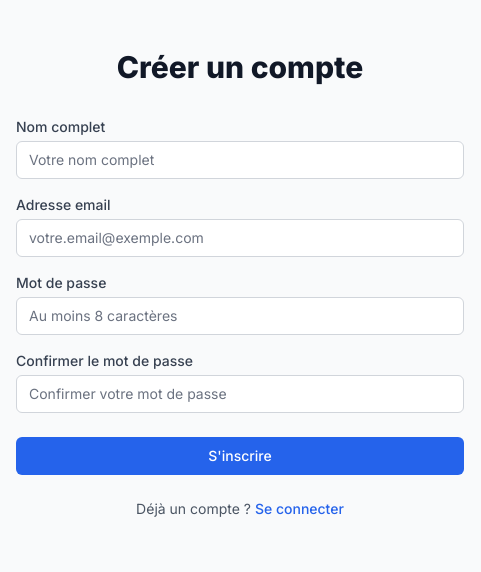
Test: FormulaireInscription › Soumission du formulaire et requêtes réseau › affiche une erreur générique en cas d'échec sans message
Type "Jean Dupont" into the field labelled "Nom complet".
click(240, 160); type("Jean Dupont")  # box [16,141,464,179]
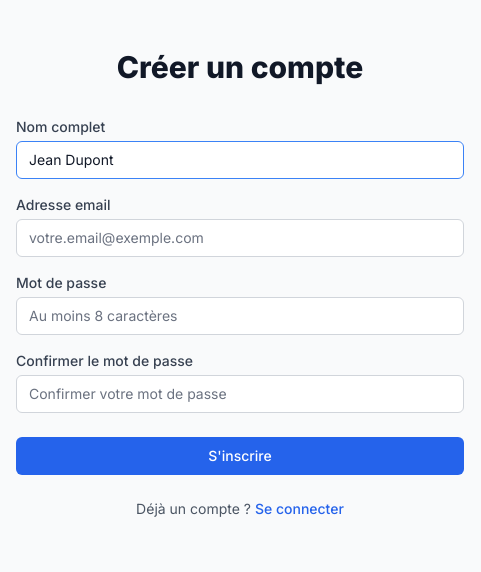
Type "jean.dupont@exemple.com" into the field labelled "Adresse email".
click(240, 238); type("jean.dupont@exemple.com")  # box [16,219,464,257]
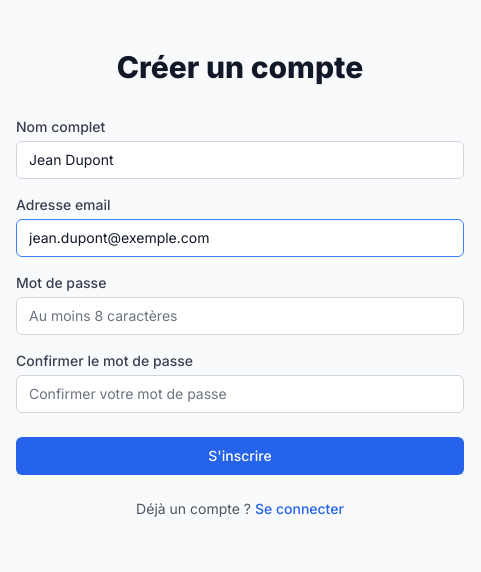
Type "motdepasse123" into the password field labelled "Mot de passe".
click(240, 316); type("motdepasse123")  # box [16,297,464,335]
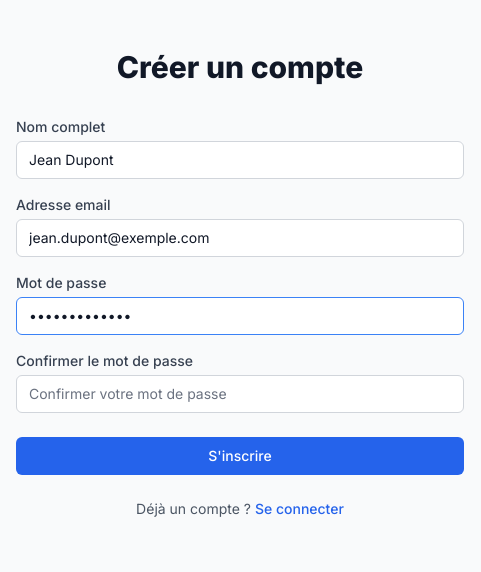
Type "motdepasse123" into the password field labelled "Confirmer le mot de passe".
click(240, 394); type("motdepasse123")  # box [16,375,464,413]
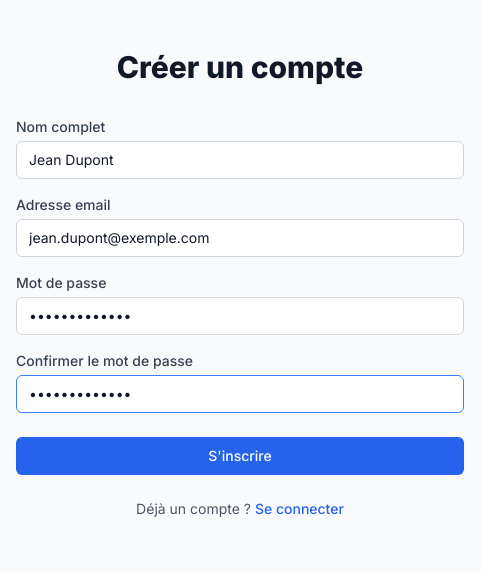
Click the button "S'inscrire".
click(240, 456)  # box [16,437,464,475]
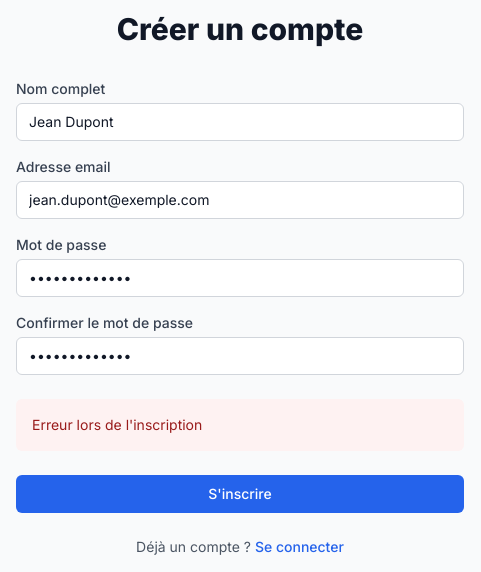
Expected: the text "Erreur lors de l'inscription" is shown, [32,416,202,433]
